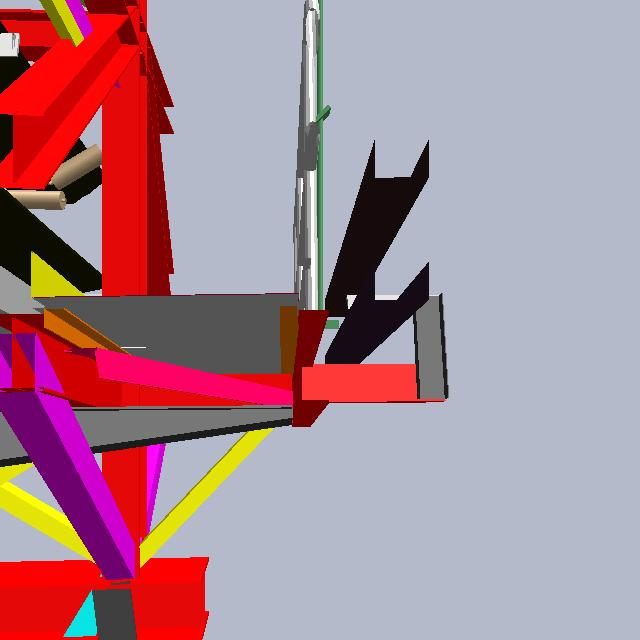Poste: (314, 1, 328, 328)
